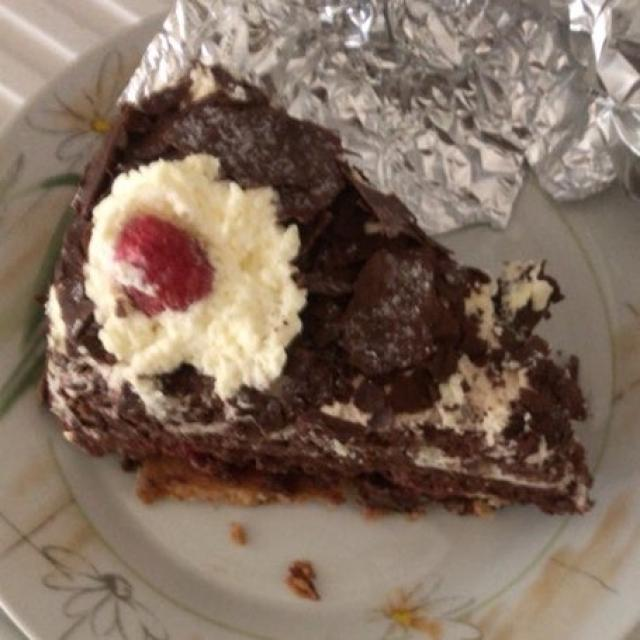cake-chocolate: (40, 57, 594, 507)
